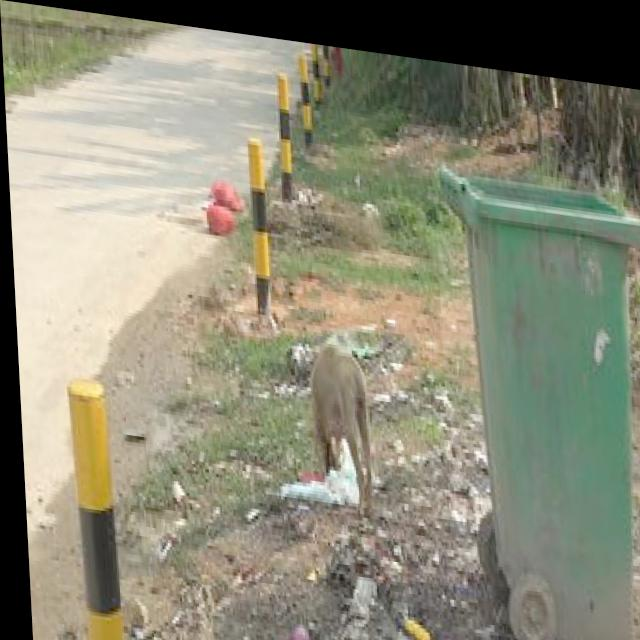garbage: (199, 168, 241, 226)
garbage_bin: (432, 147, 640, 640)
